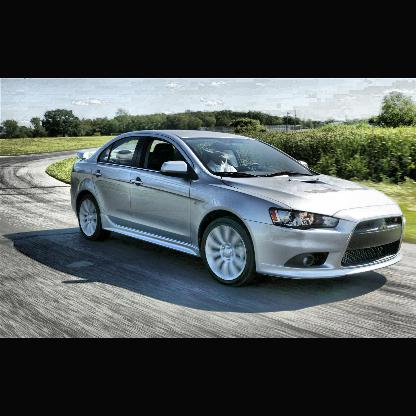Mitsubishi Lancer Sedan 2012: (72, 128, 408, 295)
